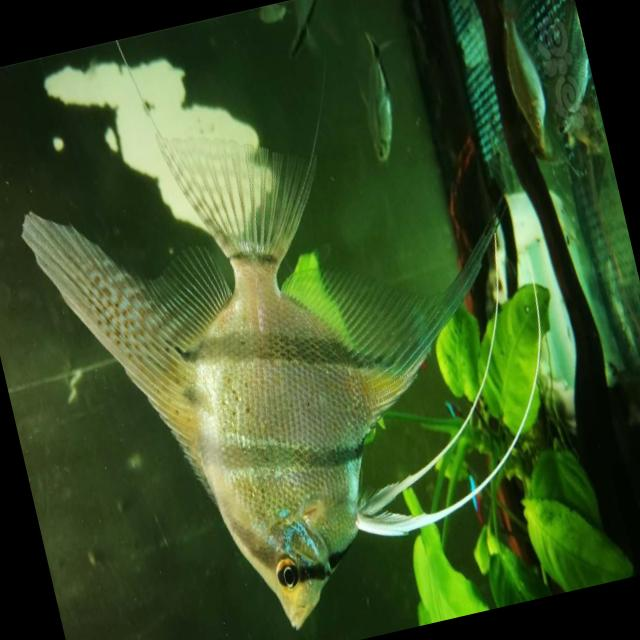AngelFish: (7, 50, 596, 640)
